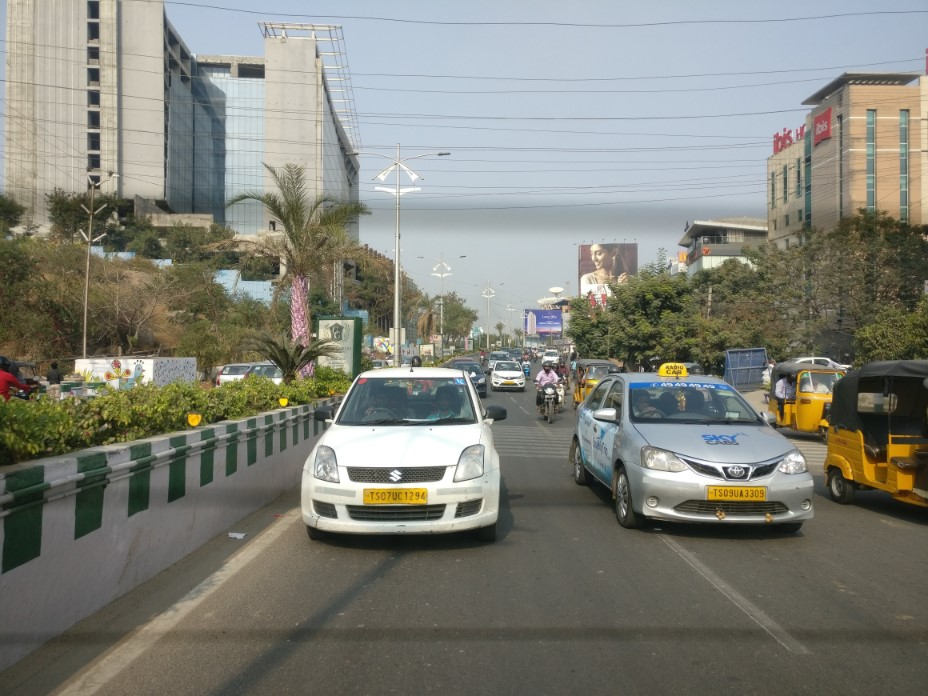swift desire: (300, 361, 506, 541)
